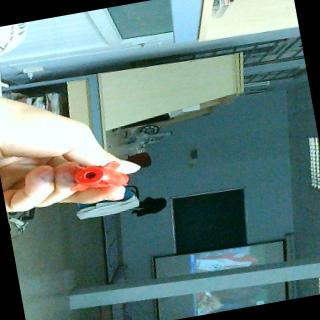Rocket: (64, 157, 124, 192)
